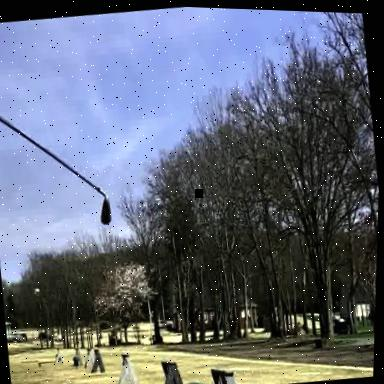GolfBall: (94, 182, 115, 226)
